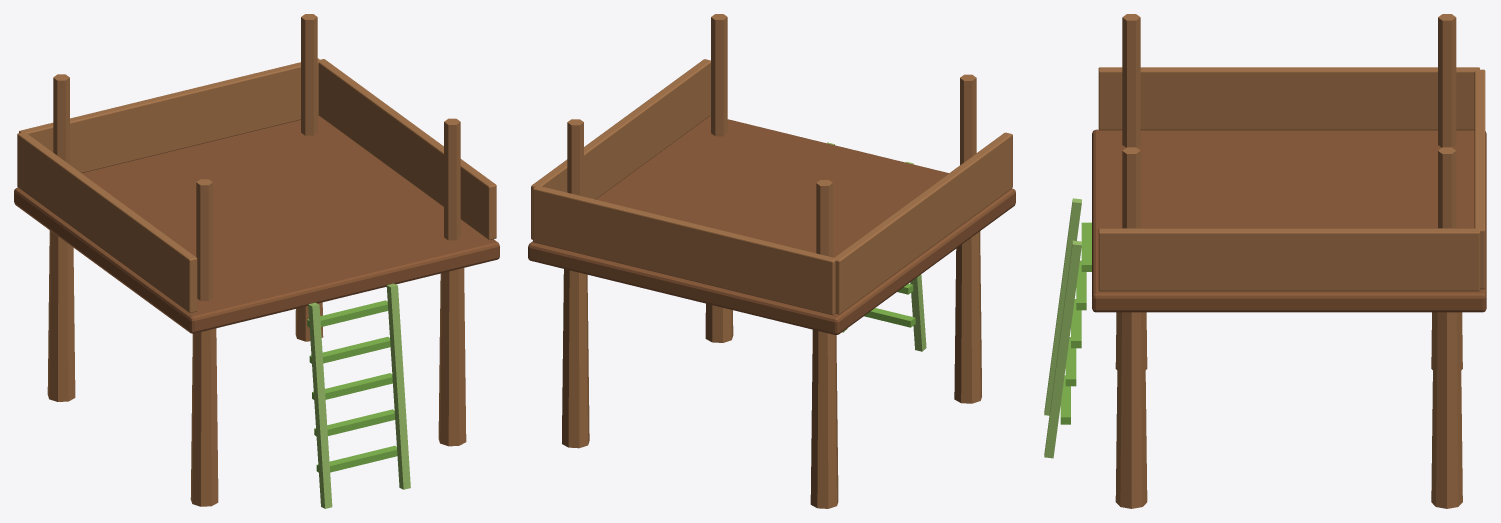
The model's file is choi-canh.glb.
The picture shows the model from 3 angles, left to right: view 1: azimuth 30°, elevation 25°; view 2: azimuth 150°, elevation 25°; view 3: azimuth 270°, elevation 25°; orthographic projection. The views are drawn at different scales.
Visible parts, largest first — view 1: choi-canh-8, choi-canh-9, choi-canh-10, choi-canh-11, choi-canh-2, choi-canh-6, choi-canh-0, choi-canh-13, choi-canh-12, choi-canh-7, choi-canh-5, choi-canh-3 (+7 smaller); view 2: choi-canh-8, choi-canh-9, choi-canh-10, choi-canh-11, choi-canh-0, choi-canh-4, choi-canh-2, choi-canh-7, choi-canh-3, choi-canh-5, choi-canh-1, choi-canh-6 (+2 smaller); view 3: choi-canh-8, choi-canh-11, choi-canh-10, choi-canh-4, choi-canh-6, choi-canh-1, choi-canh-3, choi-canh-9, choi-canh-13, choi-canh-12, choi-canh-7, choi-canh-5 (+1 smaller).
Part boxes in pixels (x1,y1,x2,y2): choi-canh-8: (14, 115, 499, 333); choi-canh-9: (19, 58, 320, 173); choi-canh-10: (17, 132, 197, 313); choi-canh-11: (318, 59, 496, 240); choi-canh-2: (190, 328, 218, 506); choi-canh-6: (438, 268, 466, 446); choi-canh-0: (47, 230, 75, 401); choi-canh-13: (386, 283, 410, 489); choi-canh-12: (308, 302, 332, 508); choi-canh-7: (444, 118, 460, 240); choi-canh-5: (301, 14, 317, 135); choi-canh-3: (196, 179, 212, 300); choi-canh-8: (528, 115, 1015, 334); choi-canh-9: (533, 186, 835, 315); choi-canh-10: (834, 132, 1012, 314); choi-canh-11: (531, 59, 710, 239); choi-canh-0: (810, 329, 838, 508); choi-canh-4: (562, 269, 589, 448); choi-canh-2: (954, 231, 981, 403); choi-canh-7: (711, 14, 727, 136); choi-canh-3: (960, 74, 976, 164); choi-canh-5: (567, 119, 583, 196); choi-canh-1: (816, 180, 832, 257); choi-canh-6: (705, 303, 733, 342); choi-canh-8: (1092, 129, 1486, 312); choi-canh-11: (1098, 228, 1479, 291); choi-canh-10: (1098, 67, 1479, 130); choi-canh-4: (1431, 312, 1462, 508); choi-canh-6: (1115, 312, 1147, 508); choi-canh-1: (1438, 14, 1456, 147); choi-canh-3: (1122, 14, 1140, 147); choi-canh-9: (1474, 69, 1485, 289); choi-canh-13: (1044, 240, 1081, 458); choi-canh-12: (1044, 198, 1081, 415); choi-canh-7: (1122, 147, 1140, 228); choi-canh-5: (1438, 147, 1456, 228).
Bounding box in the file's own units: 3 × 2.95 × 3.36.
